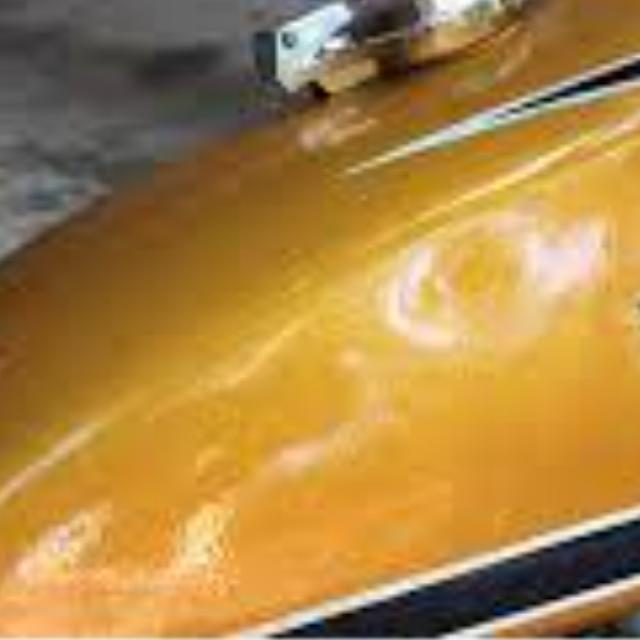dents: (378, 216, 592, 378)
